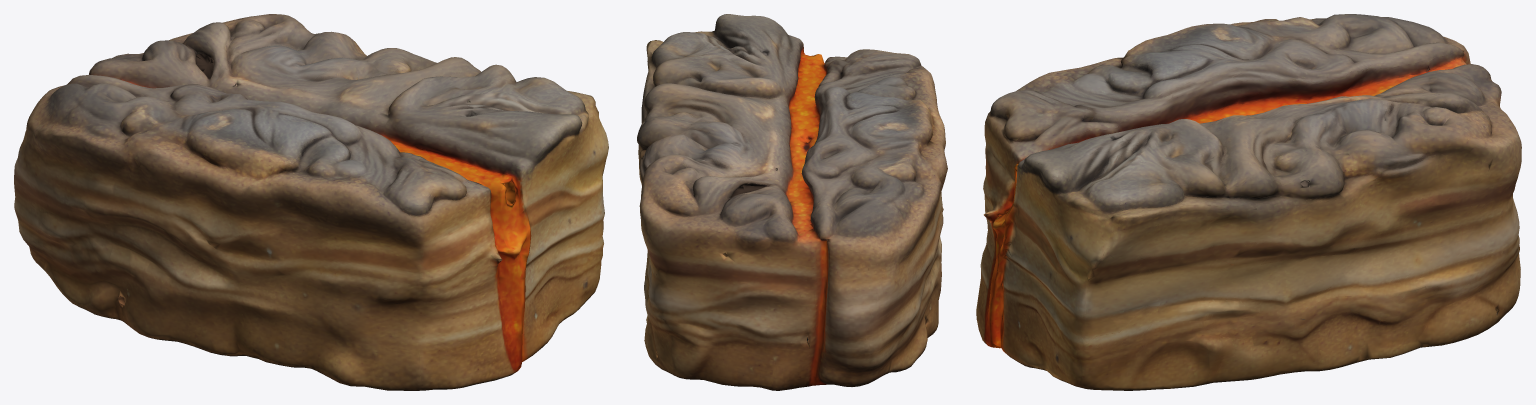
The picture shows the model from 3 angles, left to right: view 1: azimuth 30°, elevation 25°; view 2: azimuth 150°, elevation 25°; view 3: azimuth 270°, elevation 25°; orthographic projection. The views are drawn at different scales.
Parts seen in each view (by area): view 1: world; view 2: world; view 3: world.
Boxes of the visible parts, x1,y1,x2,y2 form: world: (14,14,608,390); world: (637,14,947,390); world: (976,14,1521,390).
Bounding box in the file's own units: 18.9 × 9.19 × 20.
1 material, 1 textured.
